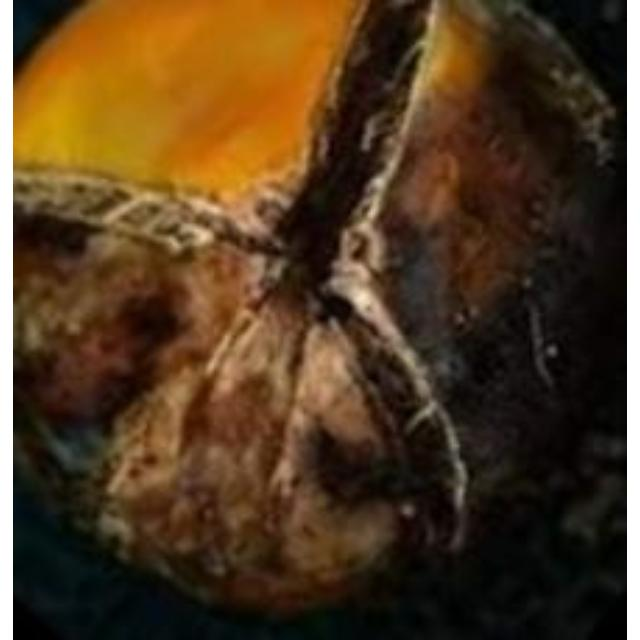damaged: (13, 0, 622, 612)
